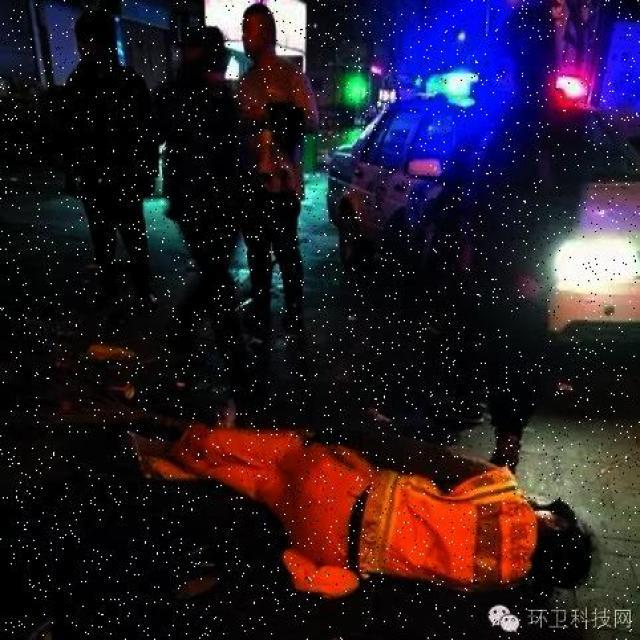fall: (146, 407, 586, 598)
